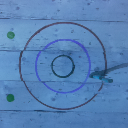Axe Tip: (93, 72, 106, 75)
